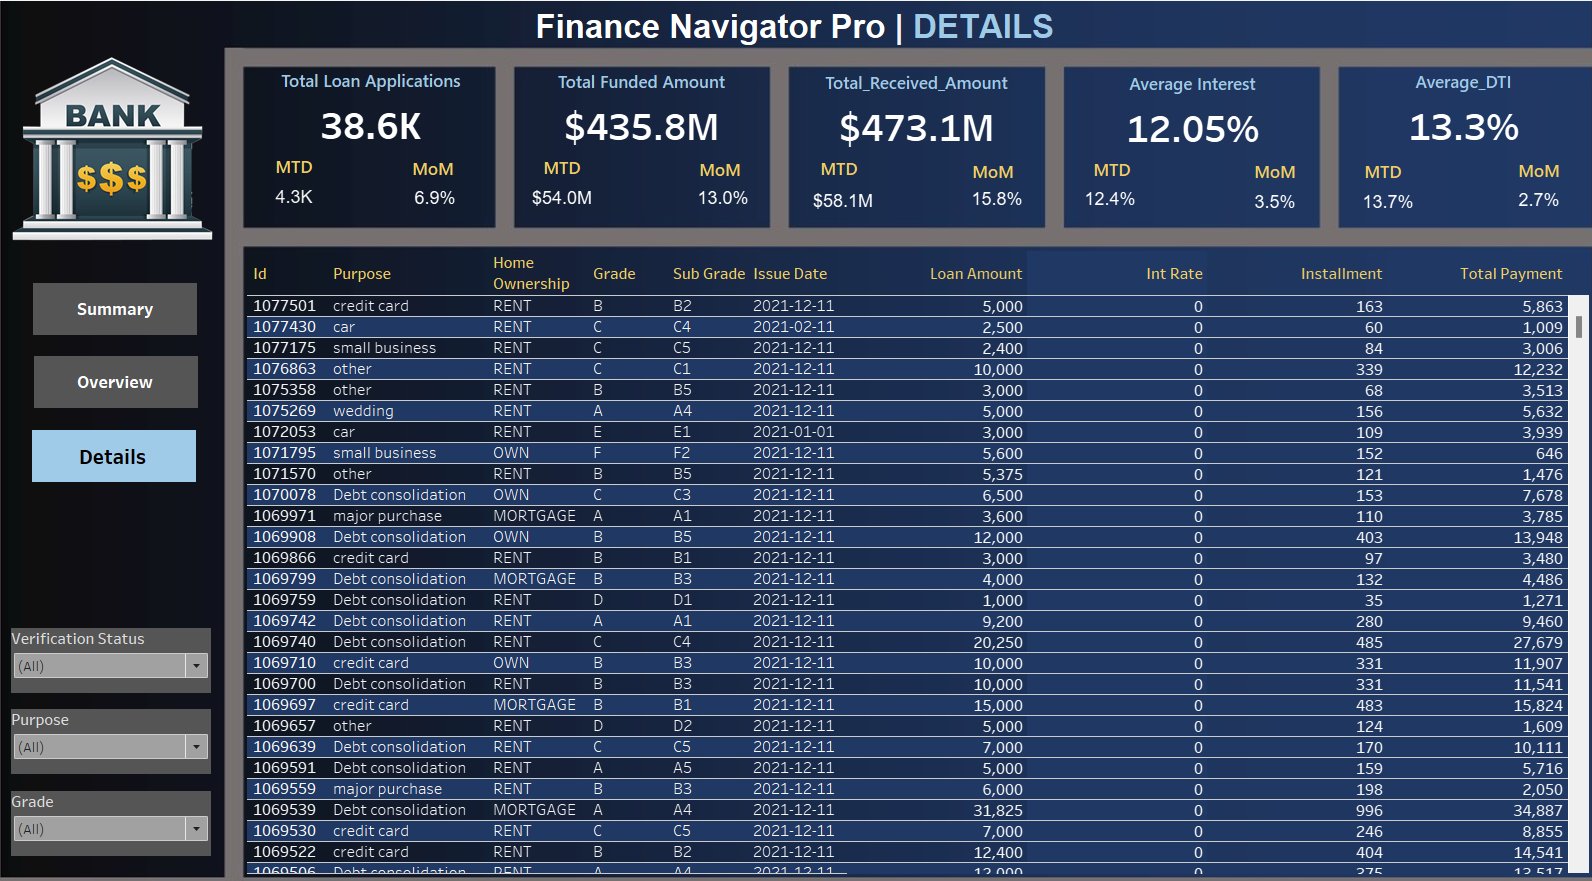

What the dashboard file says about the page in this screenshot:
{"tool":"tableau","page":{"name":"DETAILS","canvas":[1600,900],"ordinal":0},"visuals":[{"type":"text","box":[534,6,570,40]},{"type":"image","param":"Image/Tableau Background 1.jpg","box":[8,8,1073,884]},{"type":"image","param":"Image/logo1.png","box":[1081,8,511,884]},{"type":"image","param":"Image/logo1.png","box":[8,49,273,195]},{"type":"worksheet","title":"Total Loan Applications","mark":"Automatic","box":[247,64,252,80]},{"type":"worksheet","title":"Total Funded Amount","mark":"Automatic","box":[519,65,249,79]},{"type":"worksheet","title":"Average_DTI","mark":"Automatic","box":[1339,65,253,80]},{"type":"worksheet","title":"Total_Received_Amount","mark":"Automatic","box":[791,66,255,80]},{"type":"worksheet","title":"Average Interest","mark":"Automatic","box":[1088,67,213,79]},{"type":"worksheet","title":"MTD_DTI","mark":"Automatic","box":[1344,141,91,80]},{"type":"worksheet","title":"MoM_DTI","mark":"Automatic","box":[1496,143,89,72]},{"type":"worksheet","title":"MTD_Avgerage_Interest_Rate","mark":"Automatic","box":[1071,145,81,66]},{"type":"worksheet","title":"MoM_Avgerage_Interest_Rate","mark":"Automatic","box":[1229,147,95,67]},{"type":"text","box":[256,153,80,24]},{"type":"text","box":[524,154,80,24]},{"type":"text","box":[395,155,80,24]},{"type":"text","box":[801,155,80,24]},{"type":"text","box":[682,156,80,24]},{"type":"text","box":[1074,156,80,24]},{"type":"text","box":[1501,157,80,24]},{"type":"text","box":[955,158,80,24]},{"type":"text","box":[1237,158,80,24]},{"type":"text","box":[1345,158,80,24]},{"type":"worksheet","title":"MTD_Amount_Received","mark":"Automatic","box":[806,164,78,51]},{"type":"worksheet","title":"MoM_Loan Application ","mark":"Automatic","box":[403,175,67,43]},{"type":"worksheet","title":"MTD_Loan Application","mark":"Automatic","box":[252,178,87,35]},{"type":"worksheet","title":"MTD_Funded_Amount","mark":"Automatic","box":[527,180,74,34]},{"type":"worksheet","title":"MOM_Received_Amount","mark":"Automatic","box":[956,183,85,30]},{"type":"worksheet","title":"MoM_Funded_Amount ","mark":"Automatic","box":[690,184,70,26]},{"type":"worksheet","title":"Details Tab","mark":"Automatic","rows":["id","purpose","home_ownership","grade","sub_grade","issue_date"],"box":[249,250,1342,623]},{"type":"dashboard-object","box":[35,282,164,52]},{"type":"dashboard-object","box":[36,355,164,52]},{"type":"dashboard-object","box":[34,429,164,52]},{"type":"filter","title":"Average Interest","param":"[federated.1fspyx60za0spv1bvc3qw0eojgrr].[none:verification_status:nk]","box":[13,627,200,65]},{"type":"filter","title":"Average Interest","param":"[federated.1fspyx60za0spv1bvc3qw0eojgrr].[none:purpose:nk]","box":[13,708,200,65]},{"type":"filter","title":"Average Interest","param":"[federated.1fspyx60za0spv1bvc3qw0eojgrr].[none:grade:nk]","box":[13,790,200,65]}]}

Visuals, with their boxes in screenshot pixels (x1, y1, x2, y2), scaled from the page's 1600x900 canvas onto the 1592x881 screenshot:
text: BBox(531, 6, 1098, 45)
image: BBox(8, 8, 1076, 873)
image: BBox(1076, 8, 1584, 873)
image: BBox(8, 48, 280, 239)
"Total Loan Applications" worksheet: BBox(246, 63, 497, 141)
"Total Funded Amount" worksheet: BBox(516, 64, 764, 141)
"Average_DTI" worksheet: BBox(1332, 64, 1584, 142)
"Total_Received_Amount" worksheet: BBox(787, 65, 1041, 143)
"Average Interest" worksheet: BBox(1083, 66, 1294, 143)
"MTD_DTI" worksheet: BBox(1337, 138, 1428, 216)
"MoM_DTI" worksheet: BBox(1489, 140, 1577, 210)
"MTD_Avgerage_Interest_Rate" worksheet: BBox(1066, 142, 1146, 207)
"MoM_Avgerage_Interest_Rate" worksheet: BBox(1223, 144, 1317, 209)
text: BBox(255, 150, 334, 173)
text: BBox(521, 151, 601, 174)
text: BBox(393, 152, 473, 175)
text: BBox(797, 152, 877, 175)
text: BBox(679, 153, 758, 176)
text: BBox(1069, 153, 1148, 176)
text: BBox(1493, 154, 1573, 177)
text: BBox(950, 155, 1030, 178)
text: BBox(1231, 155, 1310, 178)
text: BBox(1338, 155, 1418, 178)
"MTD_Amount_Received" worksheet: BBox(802, 161, 880, 210)
"MoM_Loan Application " worksheet: BBox(401, 171, 468, 213)
"MTD_Loan Application" worksheet: BBox(251, 174, 337, 209)
"MTD_Funded_Amount" worksheet: BBox(524, 176, 598, 209)
"MOM_Received_Amount" worksheet: BBox(951, 179, 1036, 209)
"MoM_Funded_Amount " worksheet: BBox(687, 180, 756, 206)
"Details Tab" worksheet: BBox(248, 245, 1583, 855)
dashboard-object: BBox(35, 276, 198, 327)
dashboard-object: BBox(36, 348, 199, 398)
dashboard-object: BBox(34, 420, 197, 471)
"Average Interest" filter: BBox(13, 614, 212, 677)
"Average Interest" filter: BBox(13, 693, 212, 757)
"Average Interest" filter: BBox(13, 773, 212, 837)
